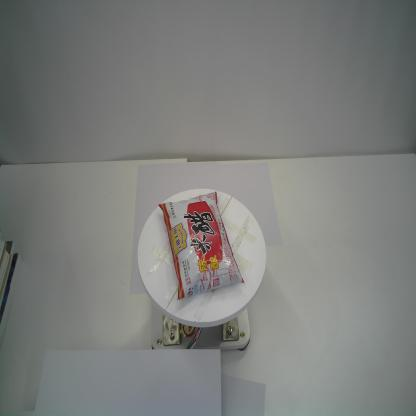Seasoner: (158, 191, 245, 301)
